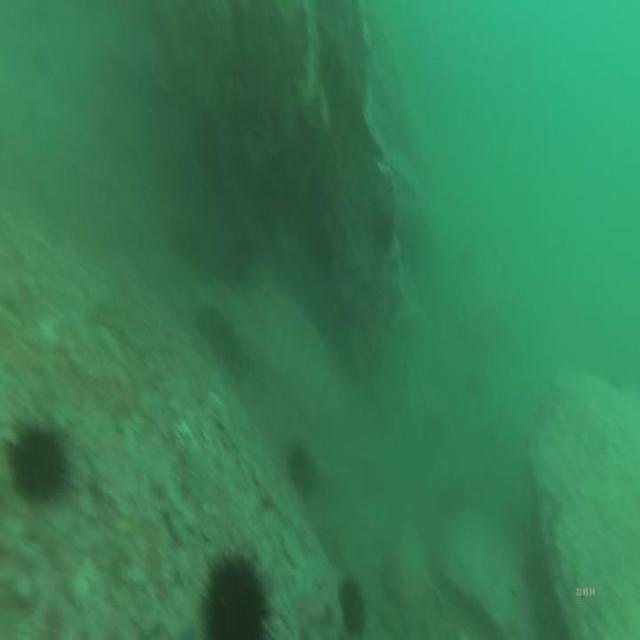echinus: (1, 409, 75, 517), (198, 543, 271, 640), (334, 577, 369, 637), (284, 438, 318, 499), (220, 229, 255, 288), (369, 207, 396, 251)
